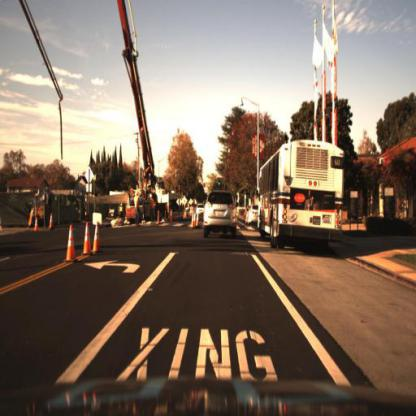car: (198, 186, 241, 241), (248, 201, 259, 229), (192, 202, 207, 222)
pedestrian: (131, 188, 145, 230), (148, 190, 160, 225), (133, 189, 143, 227), (149, 189, 159, 226), (118, 199, 126, 229), (117, 201, 126, 222)
trafficLight: (217, 174, 225, 193)
truck: (19, 1, 158, 217), (255, 137, 347, 254), (114, 181, 171, 238)
